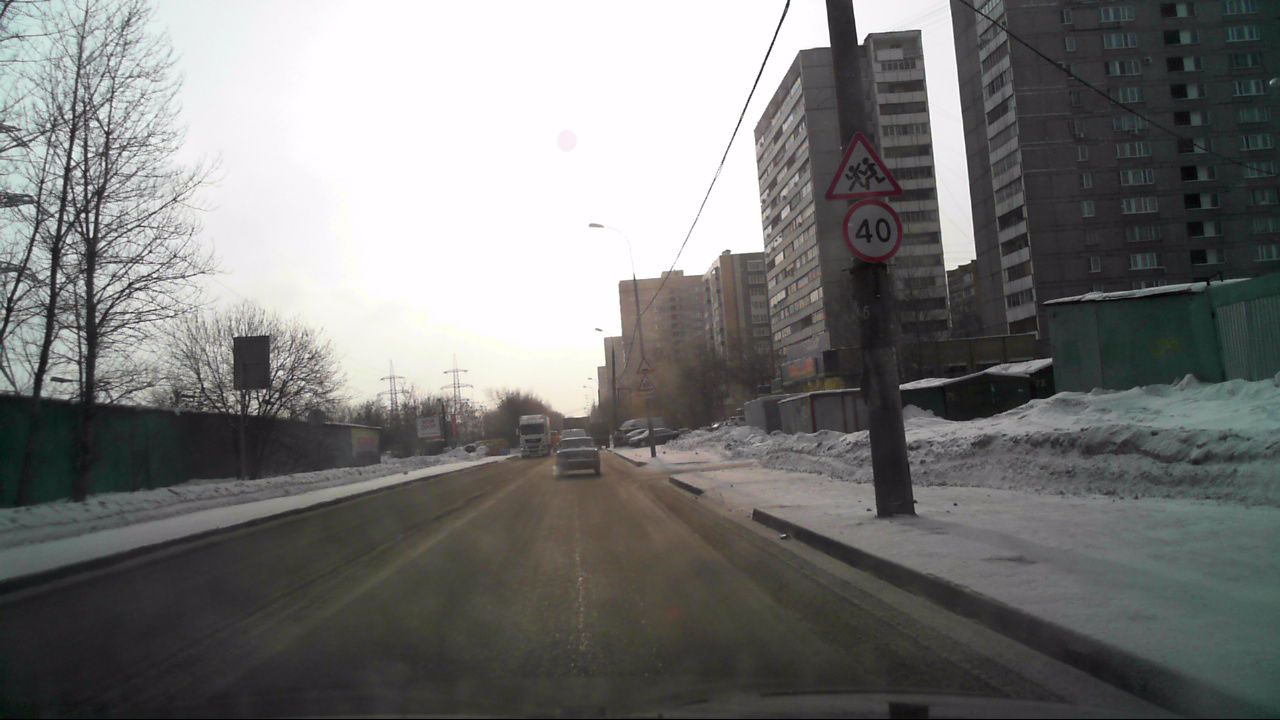speed_warning_40: (844, 204, 900, 257)
